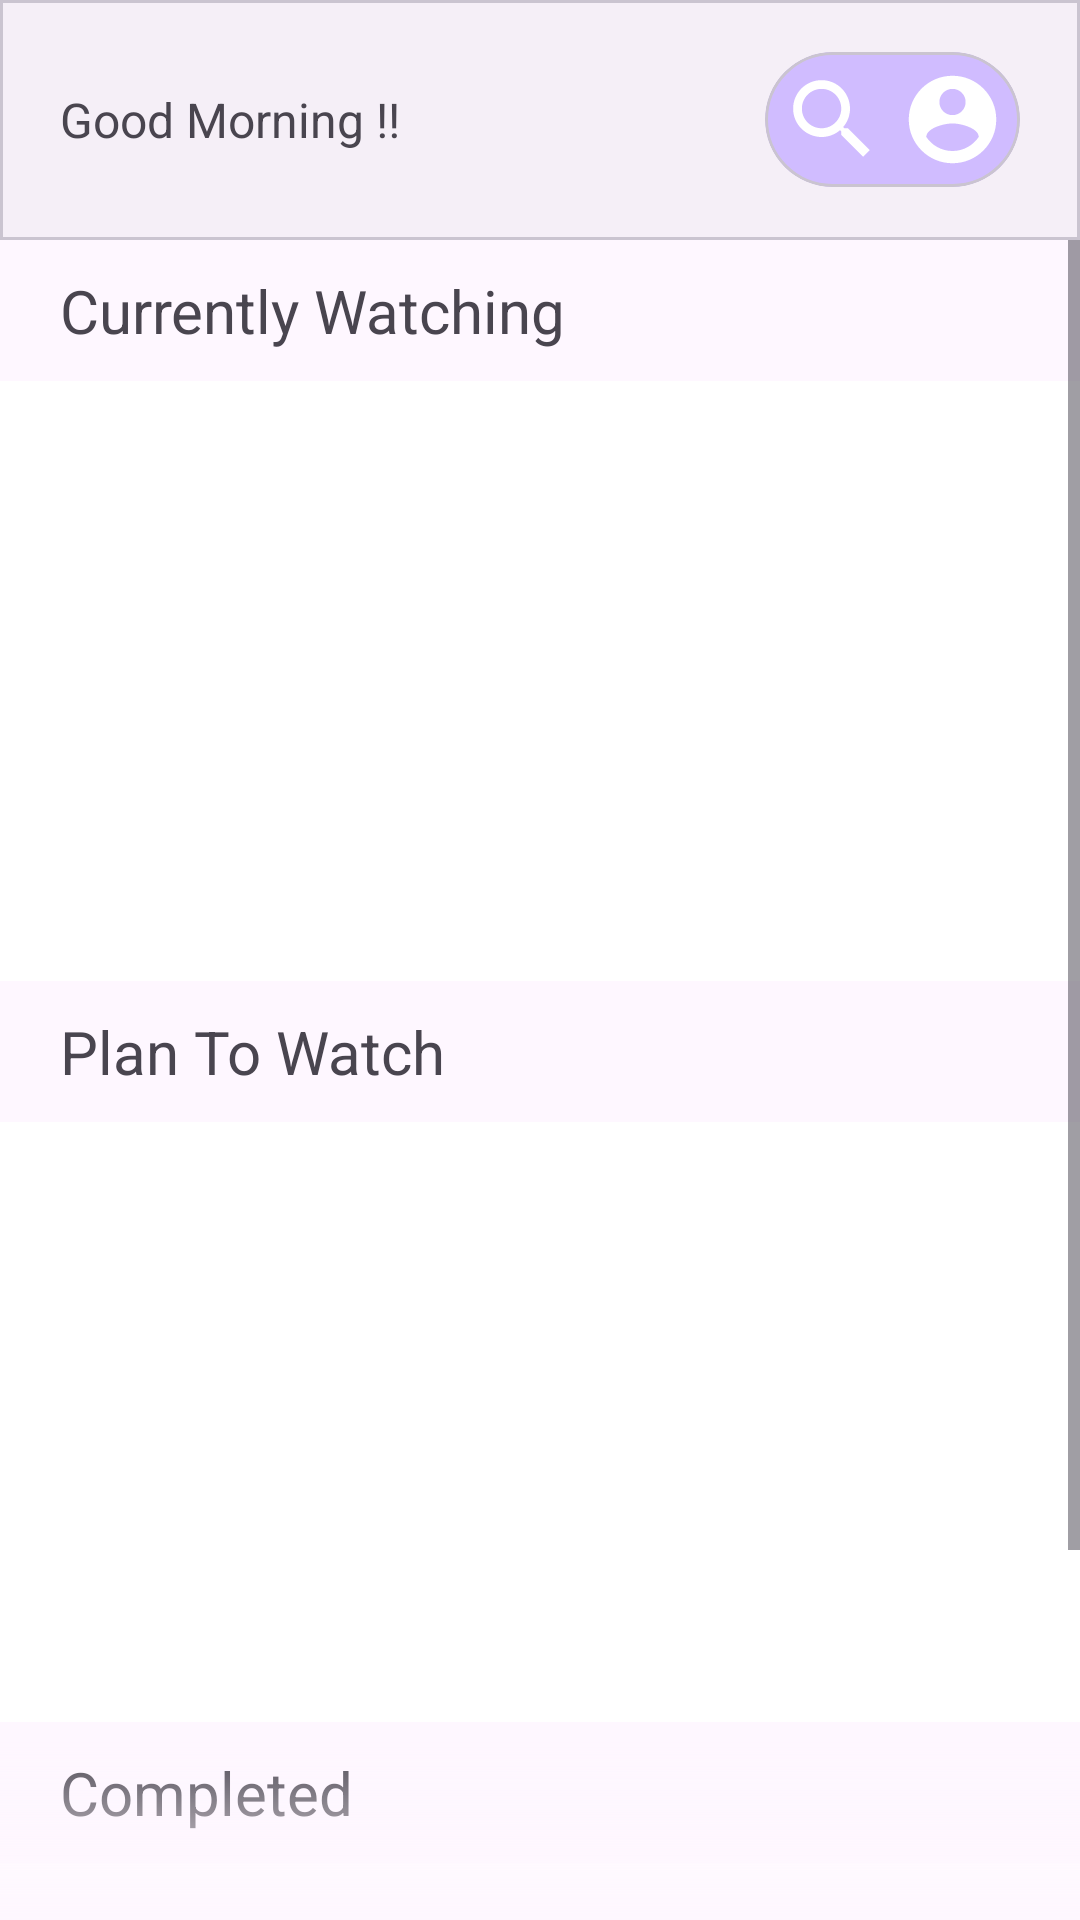

Locate icon controls on the screen. Image size 1080x1920, boxes as (x1, y1, x2, y2).
search: (793, 80, 870, 157)
